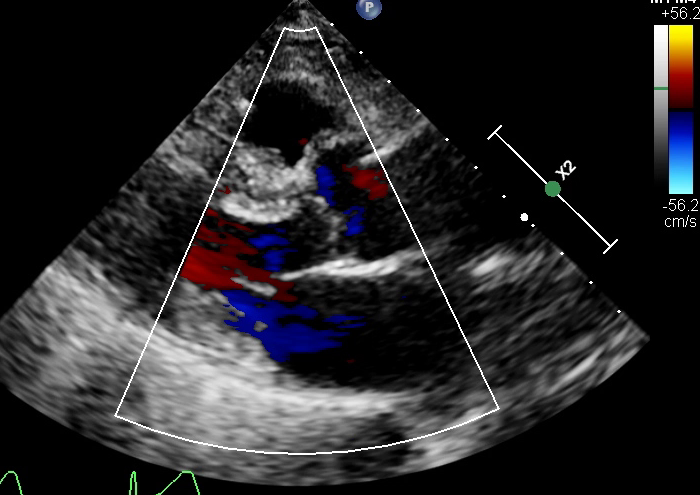AR: (211, 202, 315, 301)
